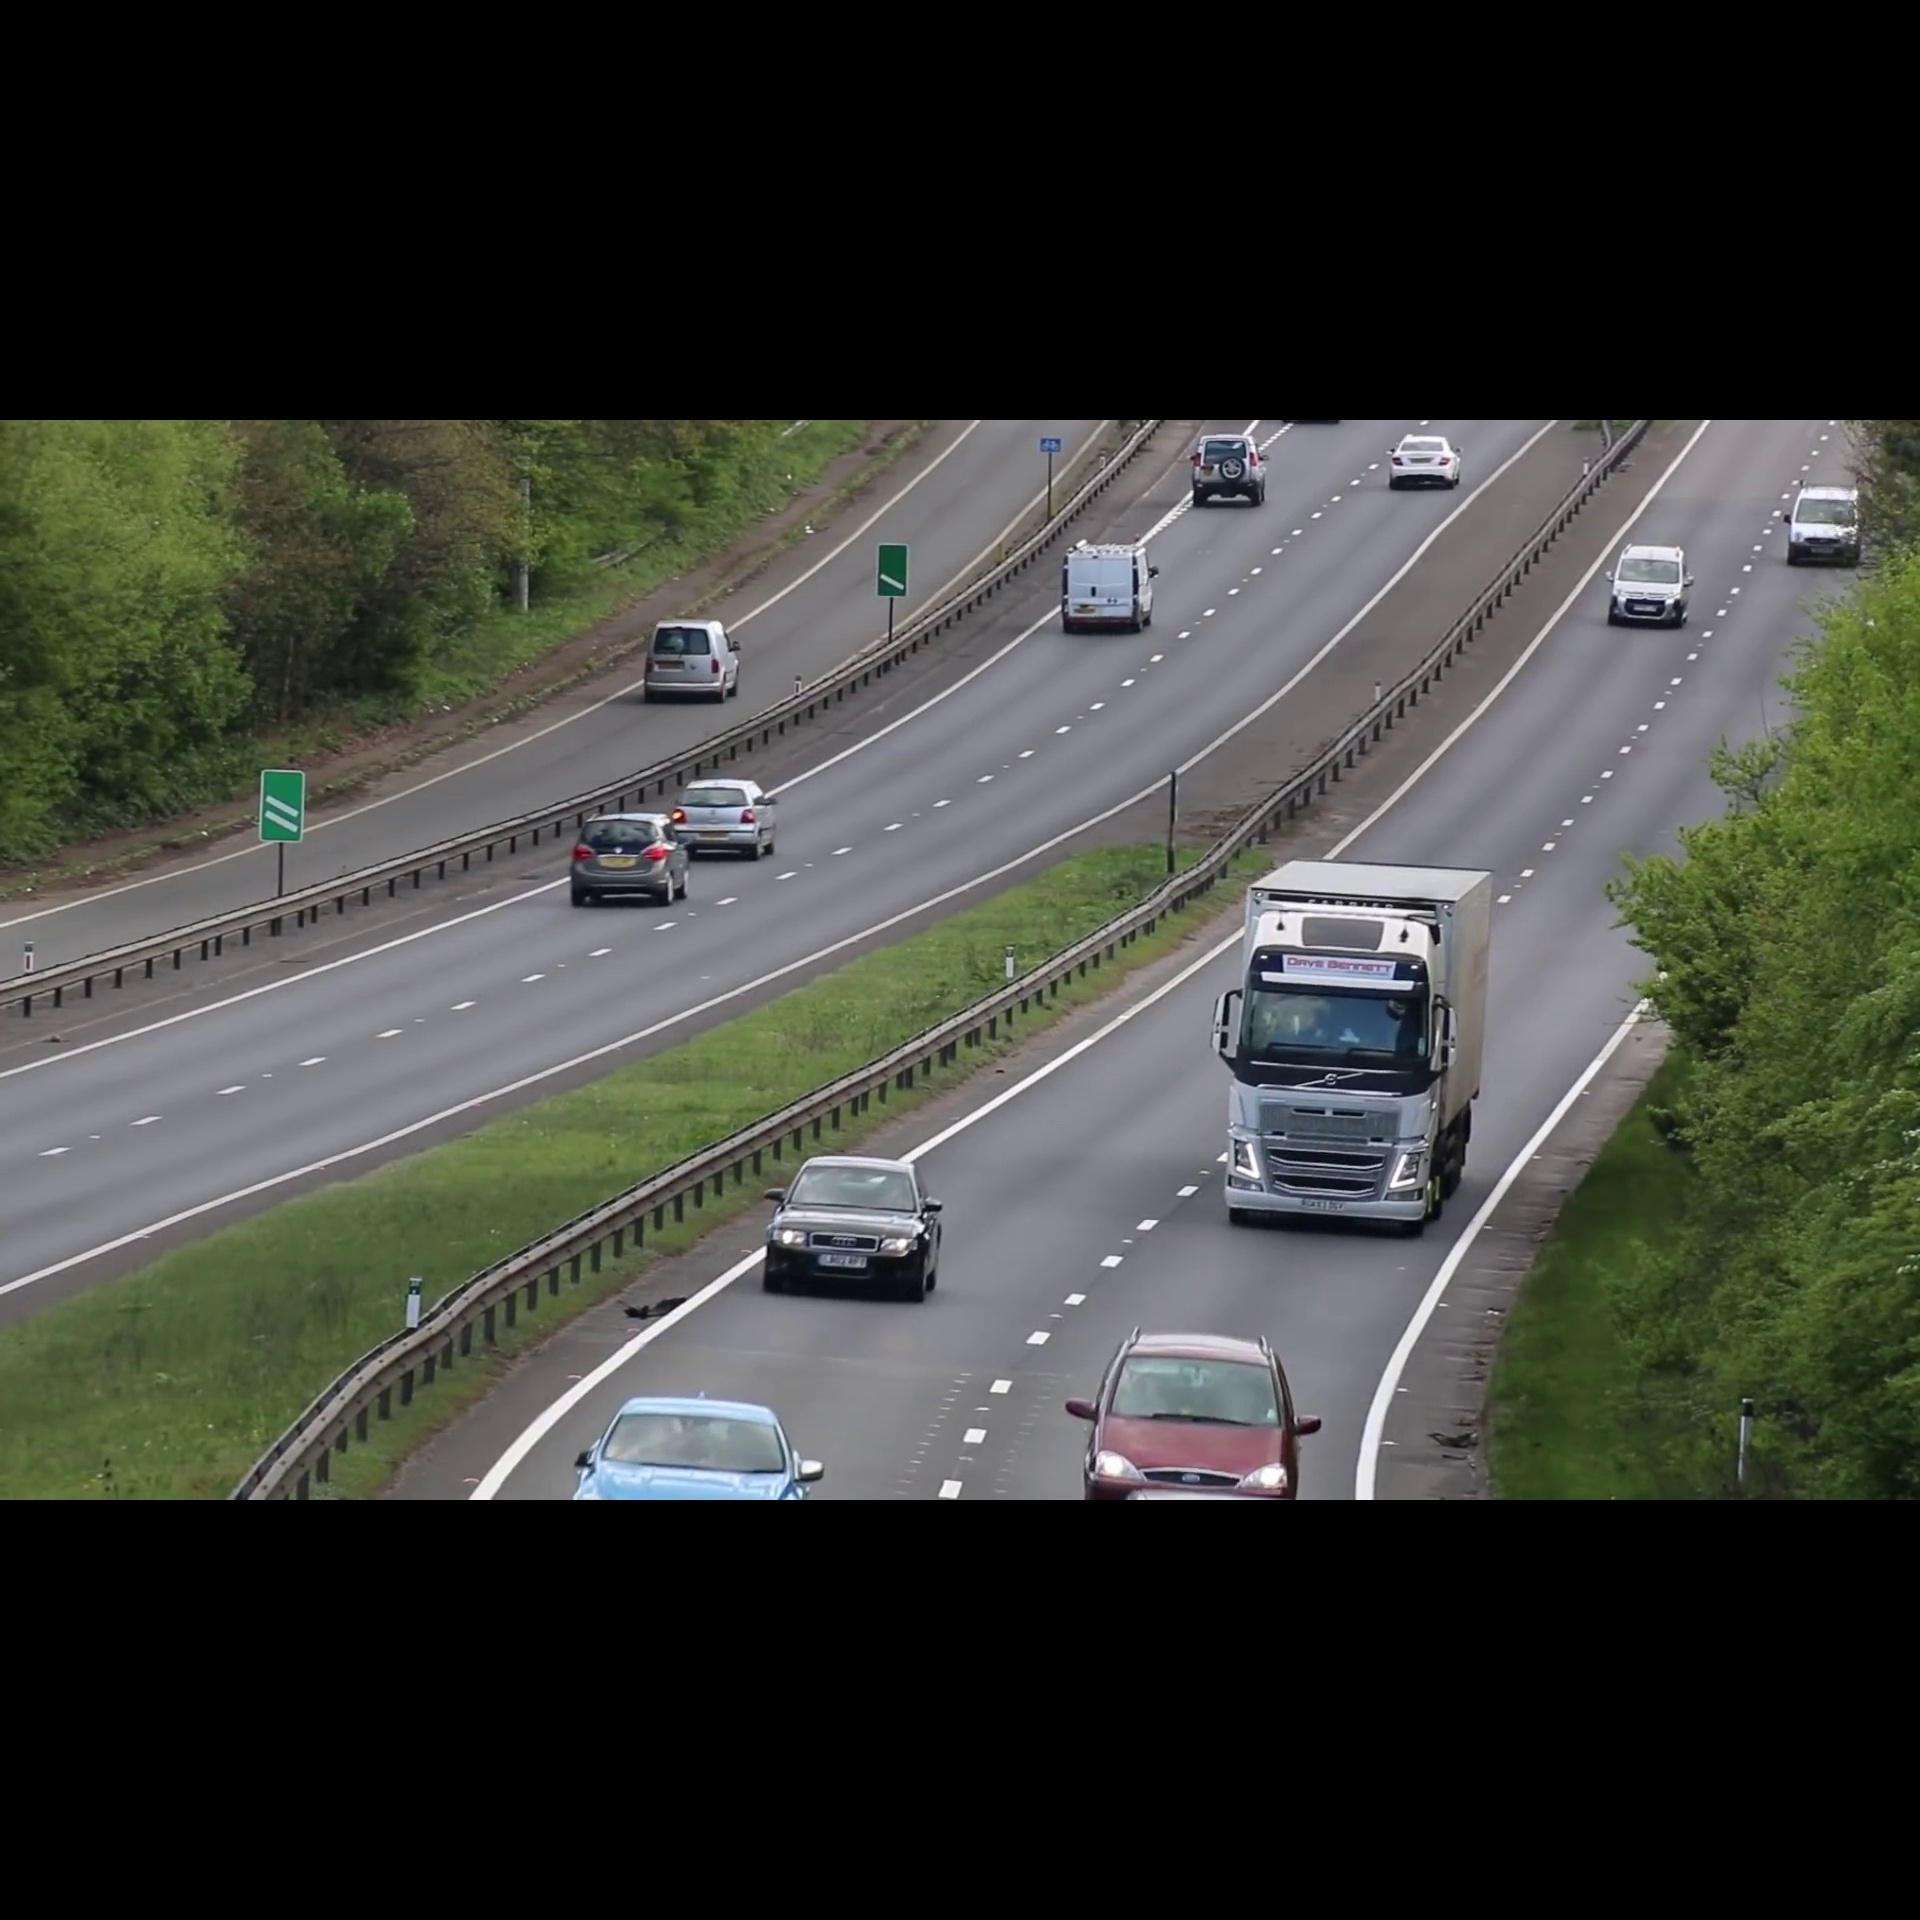vehicle: (1210, 846, 1507, 1231), (1073, 1326, 1320, 1503), (758, 1150, 951, 1315), (568, 1391, 825, 1496), (563, 811, 687, 918), (1055, 536, 1160, 642), (638, 615, 745, 710), (1774, 478, 1871, 580), (675, 774, 782, 856), (1604, 540, 1698, 626), (1187, 433, 1276, 510), (1387, 434, 1463, 496)
